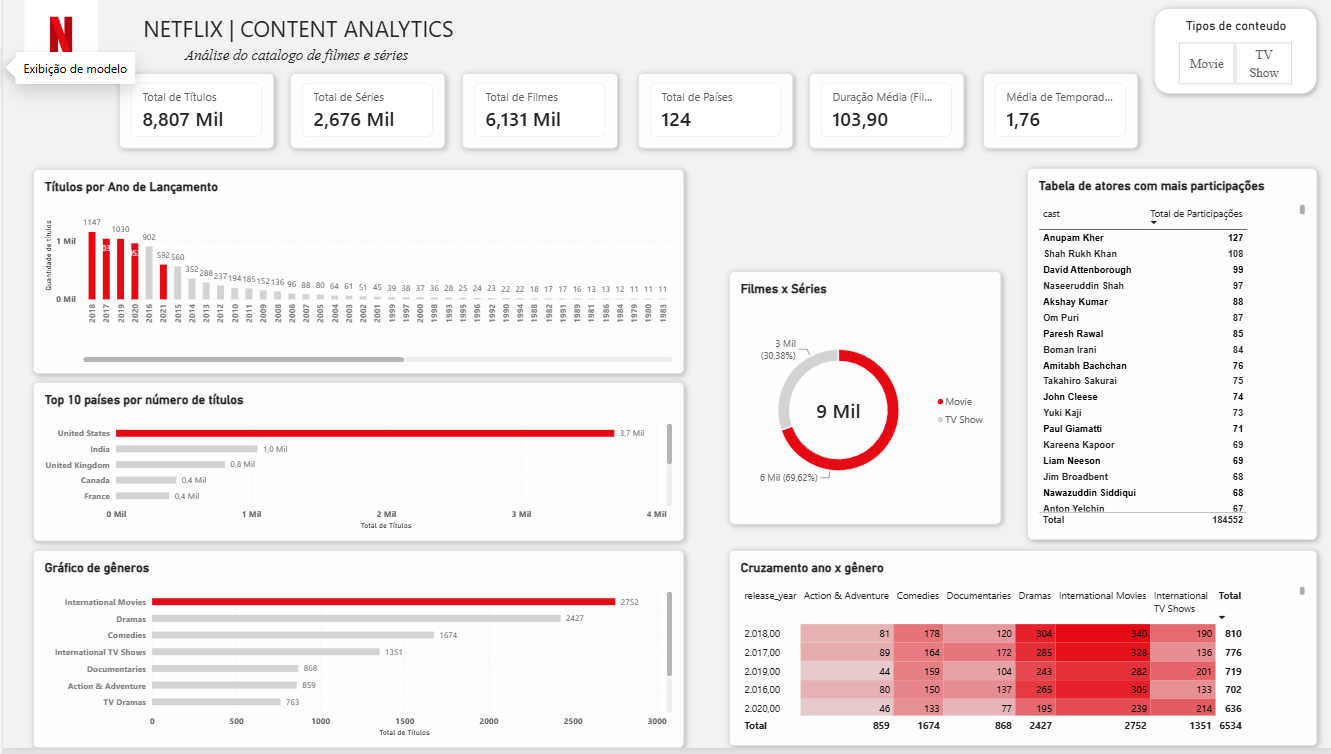

The page's visual inventory and layout, read from the dashboard file:
{"tool":"powerbi","page":{"name":"Página 1","canvas":[1920,1080],"ordinal":0},"visuals":[{"type":"cardVisual","fields":{"Data":["netflix_titles_tratado.Total de Títulos"]},"box":[288.9,106.5,224.7,109.4],"z":0},{"type":"donutChart","title":"Filmes x Séries","fields":{"Category":["netflix_titles_tratado.type"],"Y":["netflix_titles_tratado.Total de Títulos"]},"box":[1028.6,243.6,372,296.2],"z":1000},{"type":"barChart","title":"Top 10 países por número de títulos","fields":{"Category":["netflix_titles_tratado.country"],"Y":["netflix_titles_tratado.Total de Títulos"]},"box":[43.8,564.6,939.6,286],"z":2000},{"type":"barChart","title":"Gráfico de gêneros","fields":{"Category":["netflix_titles_tratado.listed_in"],"Y":["netflix_titles_tratado.Total de Títulos"]},"box":[1022.7,564.6,865.2,286],"z":3000},{"type":"clusteredColumnChart","title":"Títulos por Ano de Lançamento","fields":{"Category":["netflix_titles_tratado.release_year"],"Y":["netflix_titles_tratado.Total de Títulos"]},"box":[43.8,243.6,939.6,296.2],"z":4000},{"type":"textbox","box":[0,0,853.2,106.1],"z":5000},{"type":"cardVisual","fields":{"Data":["netflix_titles_tratado.Total de Países"]},"box":[787.8,106.5,240.7,109.4],"z":6000},{"type":"cardVisual","fields":{"Data":["netflix_titles_tratado.Total de Filmes"]},"box":[1056.3,106.5,224.7,109.4],"z":7000},{"type":"cardVisual","fields":{"Data":["netflix_titles_tratado.Total de Séries"]},"box":[536.9,106.5,233.4,109.4],"z":8000},{"type":"slicer","title":"Tipos de conteudo","fields":{"Values":["netflix_titles_tratado.type"]},"box":[1661.8,11.7,234.9,124],"z":9000},{"type":"barChart","title":"Top classificações etárias","fields":{"Category":["netflix_titles_tratado.rating"],"Y":["netflix_titles_tratado.Total de Títulos"]},"box":[43.8,863.7,1844.1,215.9],"z":10000},{"type":"image","box":[0,0,167.5,105.7],"z":12000},{"type":"pieChart","title":"Títulos por tipo","fields":{"Category":["netflix_titles_tratado.listed_in"],"Y":["netflix_titles_tratado.Total de Títulos"]},"box":[1456,243.6,411.4,296.2],"z":12001}]}

Visuals, with their boxes on the page's 1920x1080 design canvas (x1, y1, x2, y2). These are canvas units, not pixel positions in the 1331x754 screenshot, which may show the page scaled, cropped or inside an application window:
cardVisual - netflix_titles_tratado.Total de Títulos: [x1=289, y1=106, x2=514, y2=216]
"Filmes x Séries" donutChart: [x1=1029, y1=244, x2=1401, y2=540]
"Top 10 países por número de títulos" barChart: [x1=44, y1=565, x2=983, y2=851]
"Gráfico de gêneros" barChart: [x1=1023, y1=565, x2=1888, y2=851]
"Títulos por Ano de Lançamento" clusteredColumnChart: [x1=44, y1=244, x2=983, y2=540]
textbox: [x1=0, y1=0, x2=853, y2=106]
cardVisual - netflix_titles_tratado.Total de Países: [x1=788, y1=106, x2=1028, y2=216]
cardVisual - netflix_titles_tratado.Total de Filmes: [x1=1056, y1=106, x2=1281, y2=216]
cardVisual - netflix_titles_tratado.Total de Séries: [x1=537, y1=106, x2=770, y2=216]
"Tipos de conteudo" slicer: [x1=1662, y1=12, x2=1897, y2=136]
"Top classificações etárias" barChart: [x1=44, y1=864, x2=1888, y2=1080]
image: [x1=0, y1=0, x2=168, y2=106]
"Títulos por tipo" pieChart: [x1=1456, y1=244, x2=1867, y2=540]
